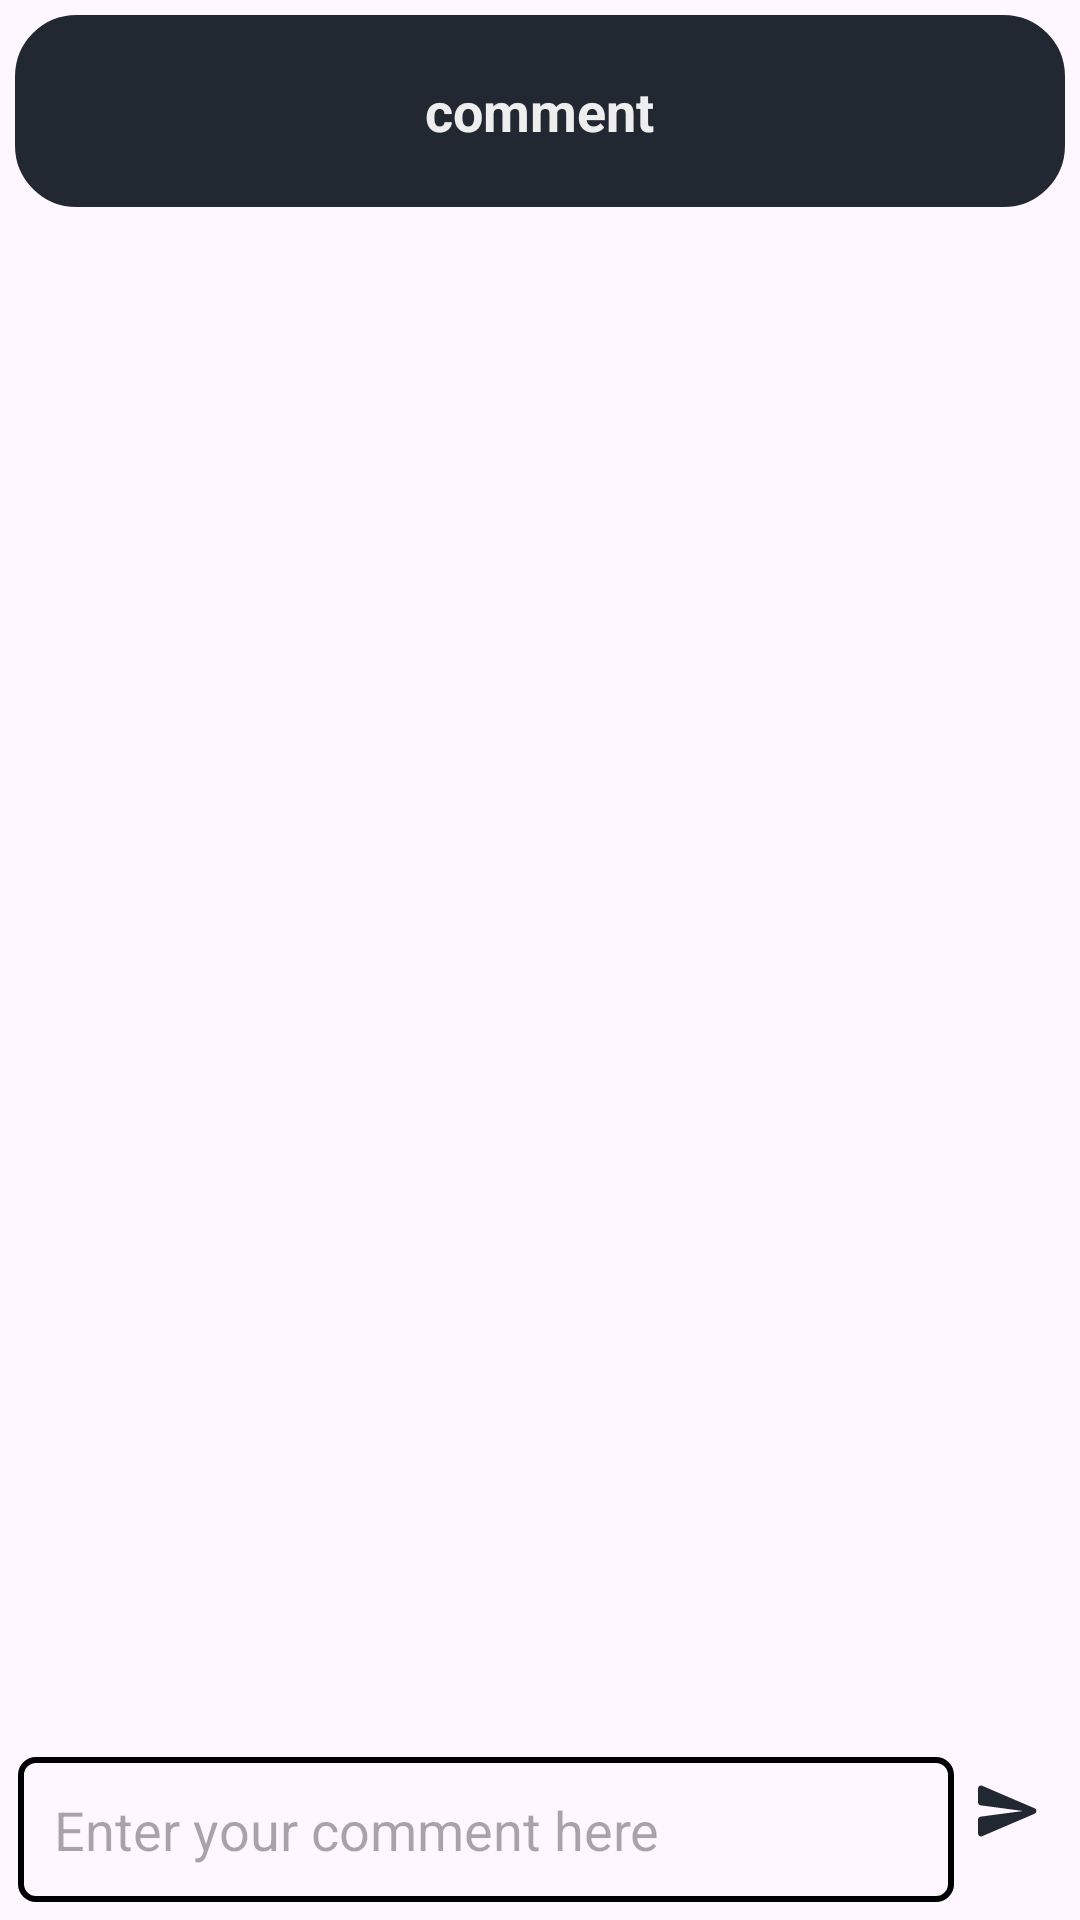

Icons on this 1080px×1920px Android screen, each with the point to tap as point (x, y):
send: point (1007, 1811)
